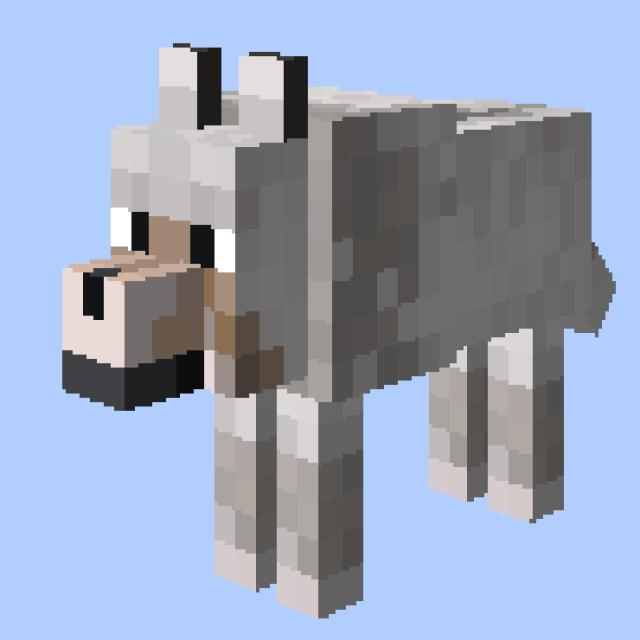Wolf: (59, 35, 619, 622)
